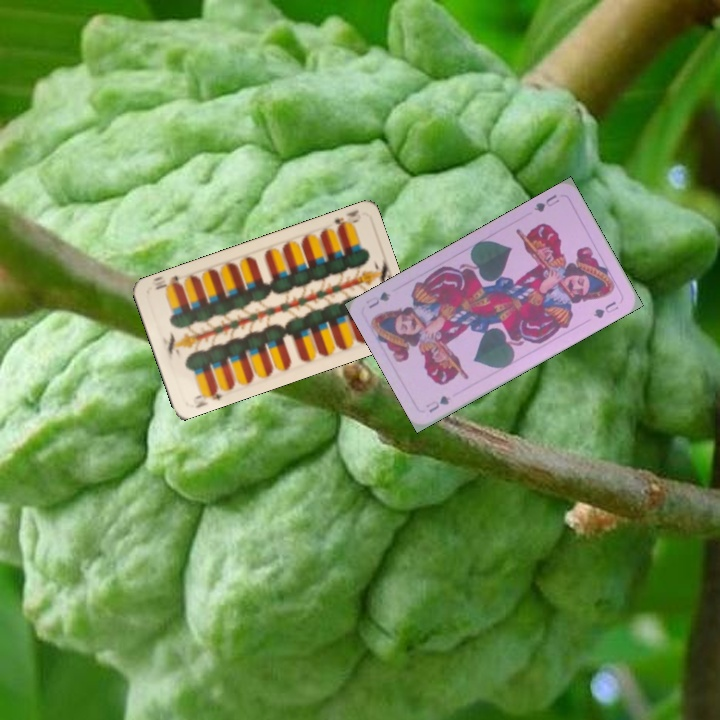E10: (330, 206, 364, 234), (190, 383, 225, 403)
GU: (530, 190, 562, 215), (422, 391, 453, 415)
